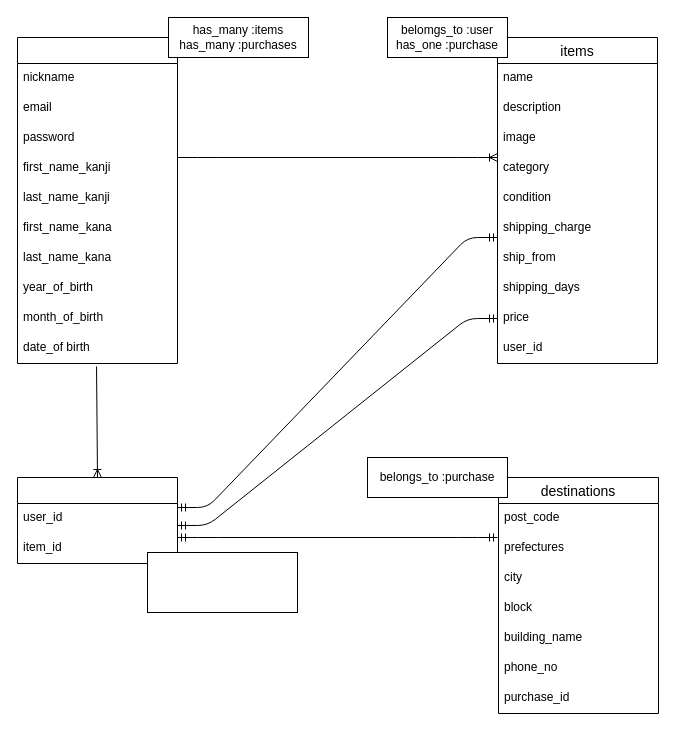
Some shapes in this 676 by 734 pixel diagram are drawn without their labels. Here are the shapes that lost their labels. From the top down, the box of each, then its label:
(16, 36, 178, 364): users
(16, 476, 178, 564): purchases
(146, 552, 298, 612): belongs_to :user belongs_to :item has_one :destination
